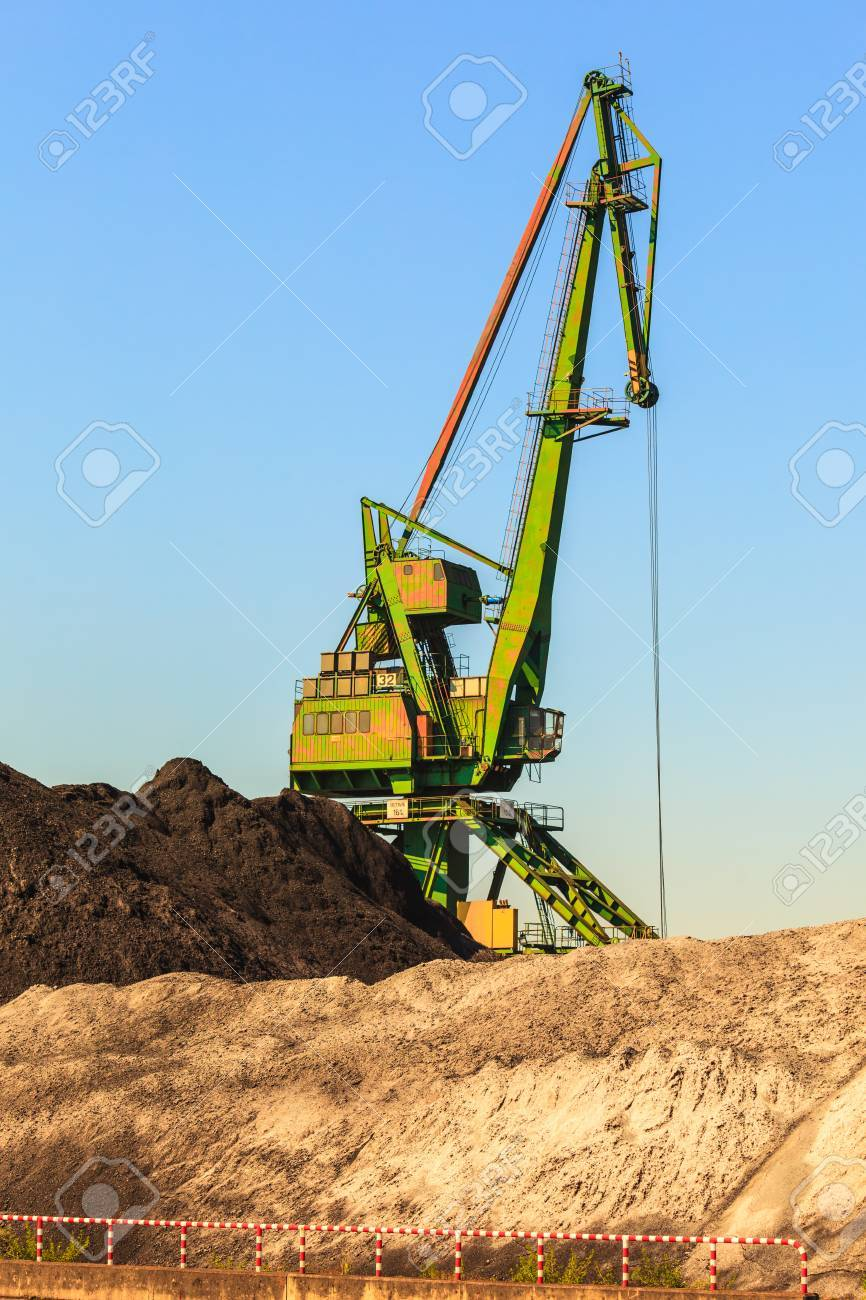crane: (284, 52, 671, 797)
